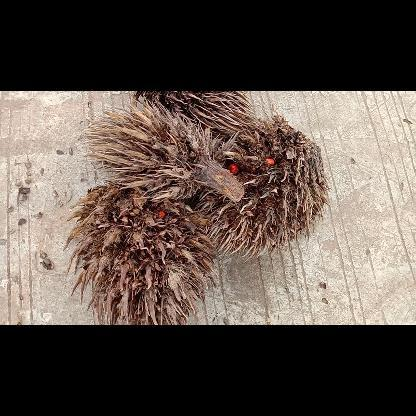Janjang kosong: (63, 182, 217, 324), (194, 110, 330, 262), (80, 98, 244, 202), (135, 91, 257, 137)
